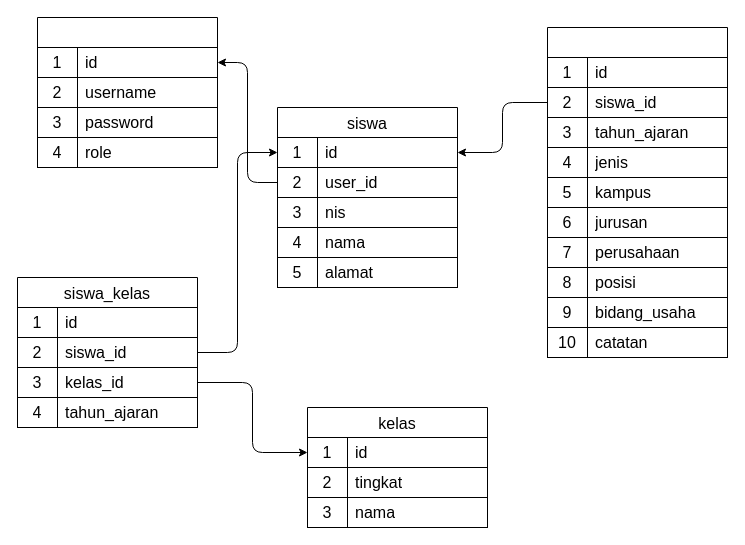
The diagram is 745 pixels wide and 545 high, and some of its shapes have lost their labels. The box of each missing label's shape, as (x1, y1, x2, y2) in pixels:
minat: (546, 26, 728, 358)
users: (36, 16, 218, 168)
